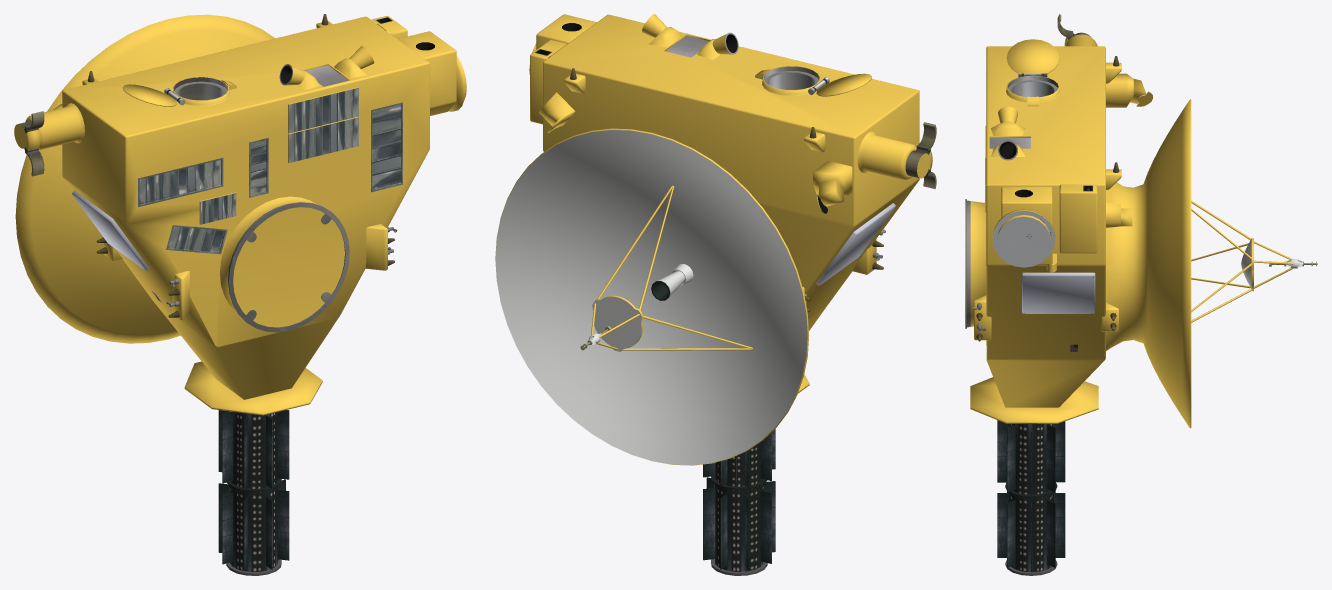
File: newhorizons_lod0.glb
The picture shows the model from 3 angles, left to right: view 1: azimuth 30°, elevation 25°; view 2: azimuth 150°, elevation 25°; view 3: azimuth 270°, elevation 25°; orthographic projection. The views are drawn at different scales.
Visible parts, largest first — view 1: newhorizons_lod0; view 2: newhorizons_lod0; view 3: newhorizons_lod0.
Boxes of the visible parts, x1,y1,x2,y2 form: newhorizons_lod0: (14, 14, 466, 575); newhorizons_lod0: (495, 14, 936, 575); newhorizons_lod0: (965, 14, 1317, 575).
Size of the model in its own units: 2.76 by 3.31 by 2.25.
Materials: 5 (2 with a texture image).
